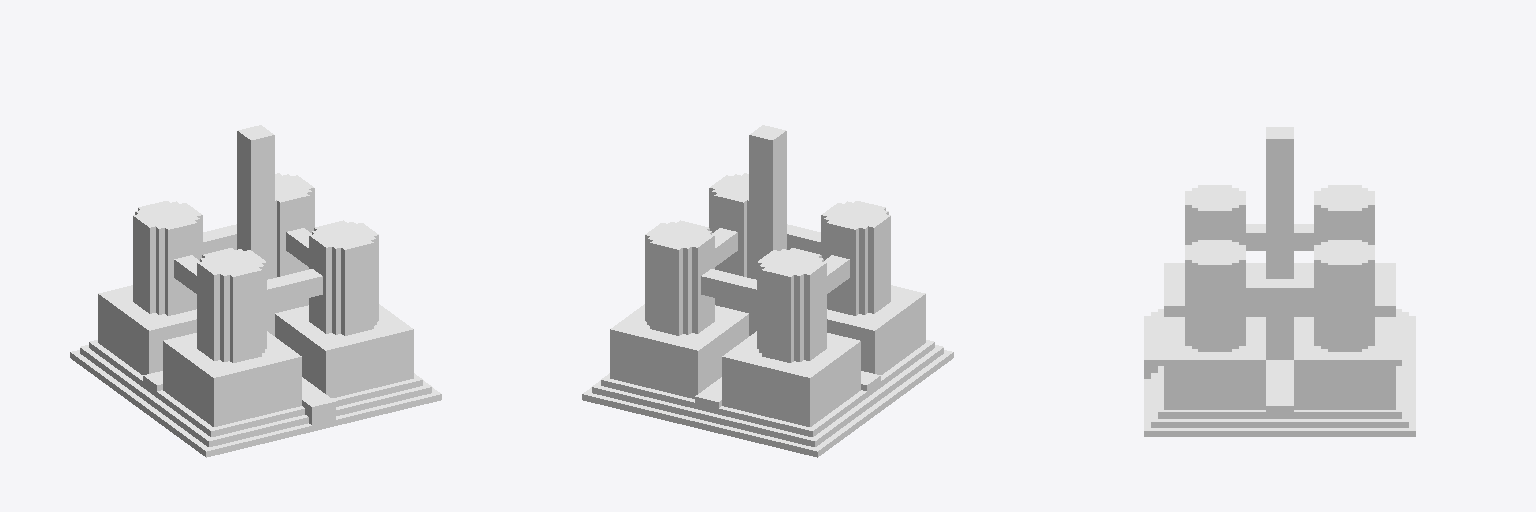
Rendered from engineering_core.obj.
The picture shows the model from 3 angles: view 1: azimuth 30°, elevation 25°; view 2: azimuth 150°, elevation 25°; view 3: azimuth 270°, elevation 25°; orthographic projection.
Parts seen in each view (by area): view 1: engineering_core; view 2: engineering_core; view 3: engineering_core.
Part boxes in pixels (x1,y1,x2,y2): engineering_core: (70, 125, 441, 457); engineering_core: (582, 125, 953, 457); engineering_core: (1144, 127, 1415, 436).
Size of the model in its own units: 80 by 80 by 80.